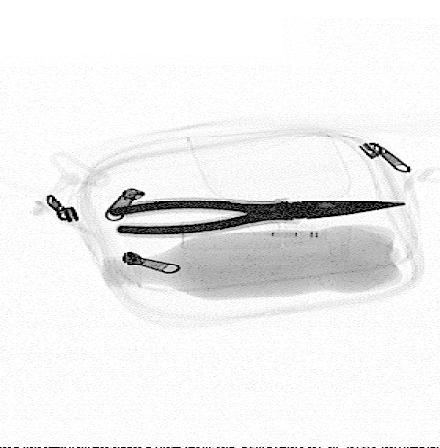Pliers: (98, 197, 412, 237)
